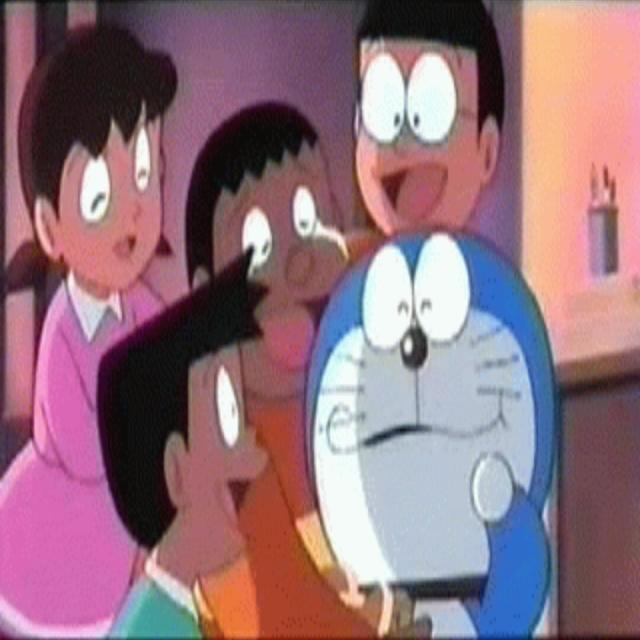doraemon: (301, 218, 565, 616)
jaian: (188, 92, 358, 396)
nobita: (348, 1, 511, 250)
shizuka: (6, 13, 182, 322)
suneo: (101, 250, 272, 592)
